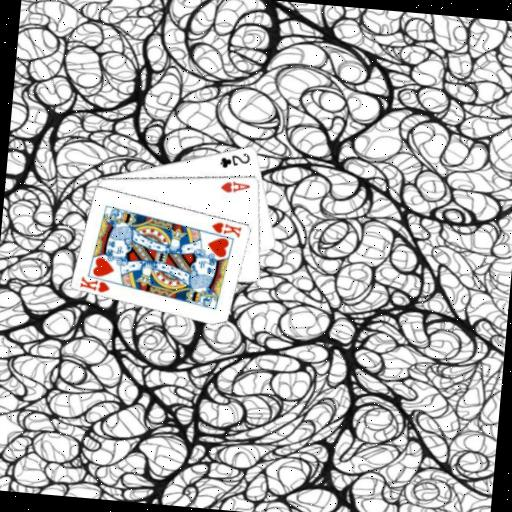2C: (217, 148, 253, 171)
AH: (217, 177, 252, 196)
KH: (77, 273, 113, 295), (209, 218, 244, 239)
